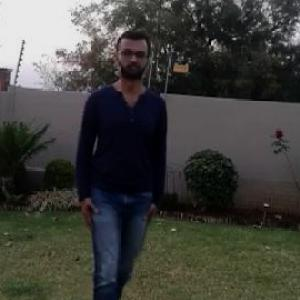follow: (77, 28, 176, 299)
